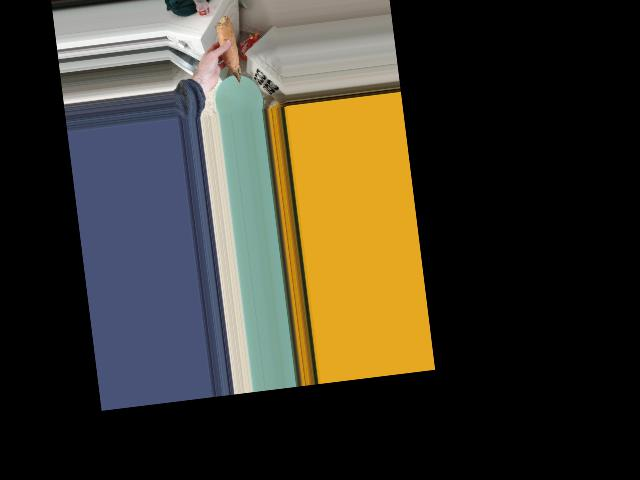sweet_potato: (214, 15, 240, 81)
